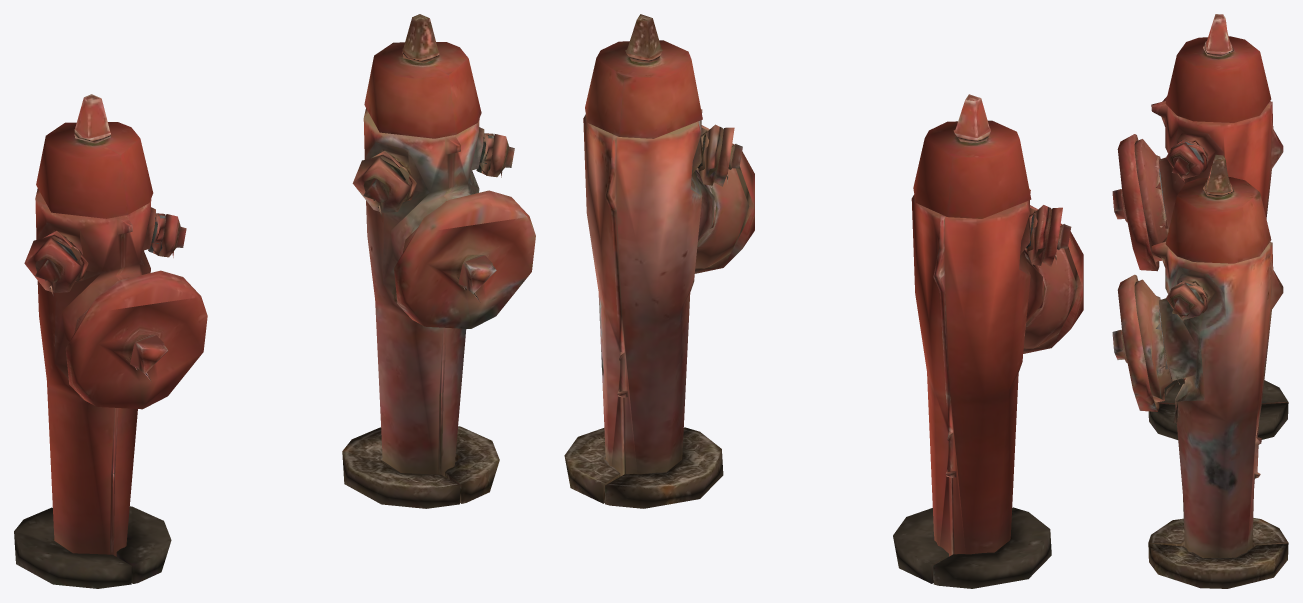
The model's file is fire_hydrant.glb.
3 views of the same model, side by side, from view 1: azimuth 30°, elevation 25°; view 2: azimuth 150°, elevation 25°; view 3: azimuth 270°, elevation 25° (orthographic). The views are drawn at different scales.
Visible parts, largest first — view 1: fire_hydrant, fire_hydrant_aged; view 2: fire_hydrant, fire_hydrant_aged; view 3: fire_hydrant_aged, fire_hydrant.
Part boxes in pixels (bbox=[...]): fire_hydrant: bbox=[14, 94, 207, 588]; fire_hydrant_aged: bbox=[342, 14, 535, 508]; fire_hydrant: bbox=[893, 94, 1083, 588]; fire_hydrant_aged: bbox=[564, 14, 754, 508]; fire_hydrant_aged: bbox=[1112, 154, 1288, 588]; fire_hydrant: bbox=[1112, 14, 1288, 439].
Bounding box in the file's own units: 0.8729 × 0.7992 × 0.3173.
Materials: 2 (2 with a texture image).
